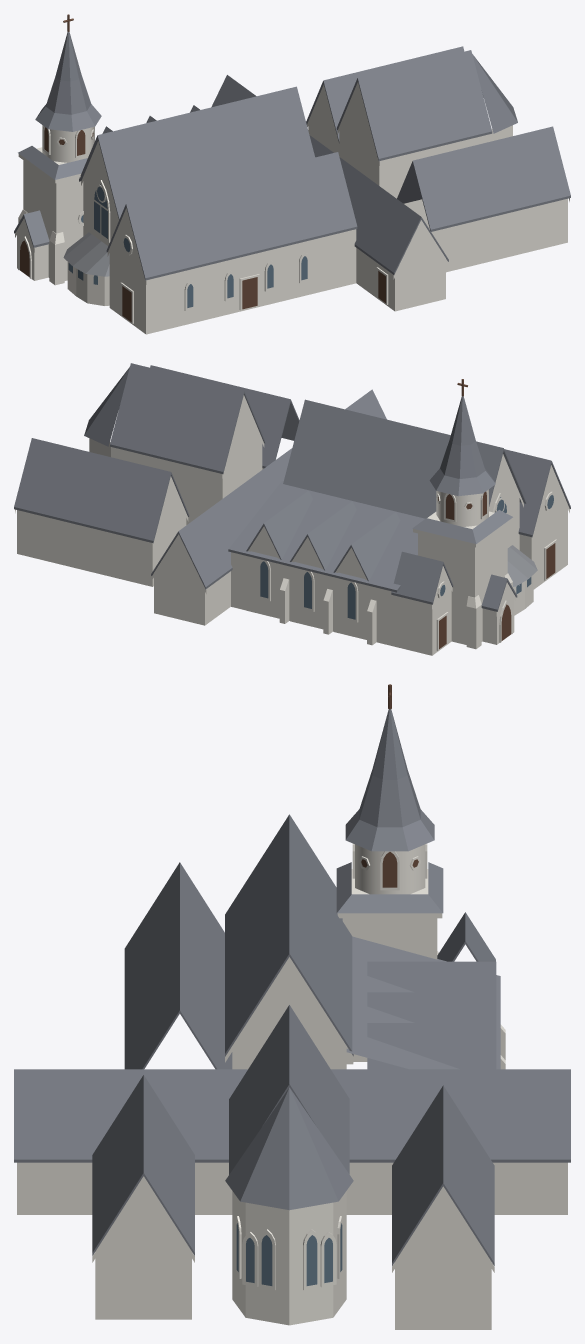
File: wellington-old-st-pauls.glb
3 renders of one model, top to bottom at view 1: azimuth 30°, elevation 25°; view 2: azimuth 150°, elevation 25°; view 3: azimuth 270°, elevation 25°, orthographic. The views are drawn at different scales.
Visible parts, largest first — view 1: Old St Paul's; view 2: Old St Paul's; view 3: Old St Paul's.
Boxes of the visible parts, bbox=[...] form: Old St Paul's: bbox=[14, 14, 570, 334]; Old St Paul's: bbox=[14, 363, 570, 655]; Old St Paul's: bbox=[14, 684, 570, 1329].
Size of the model in its own units: 37.68 by 19.6 by 27.7.
